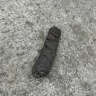Dog: (30, 25, 64, 79)
